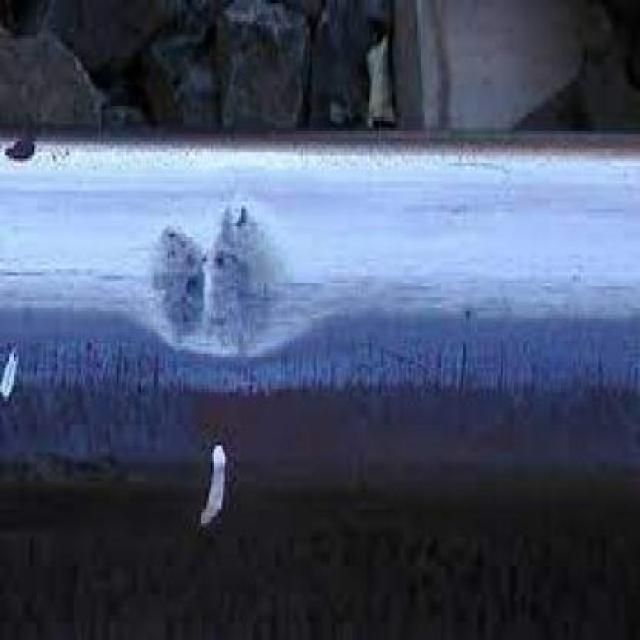defective: (128, 142, 321, 401)
